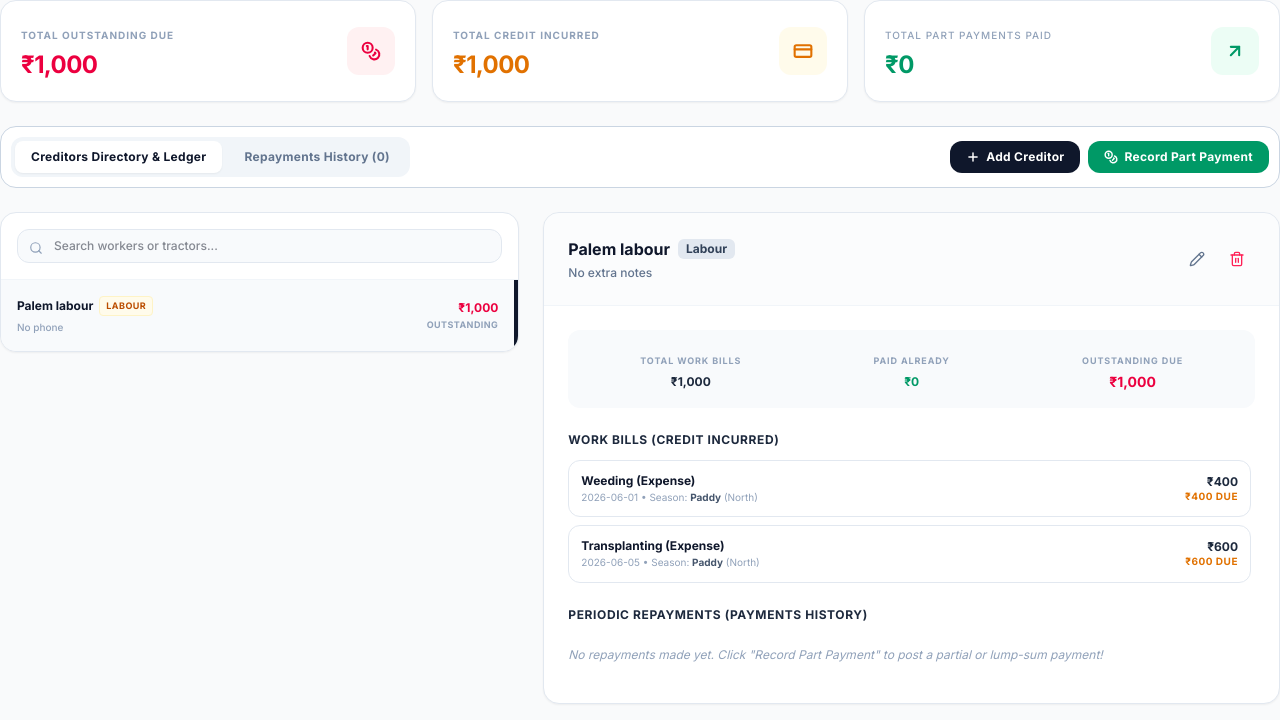
it: Credits tab: choosing which bills a payment settles › warns when the payment is more than the ticked bills owe
Step 1. Click the button "Record Part Payment" → (1179, 157), box [1088,141,1269,173]
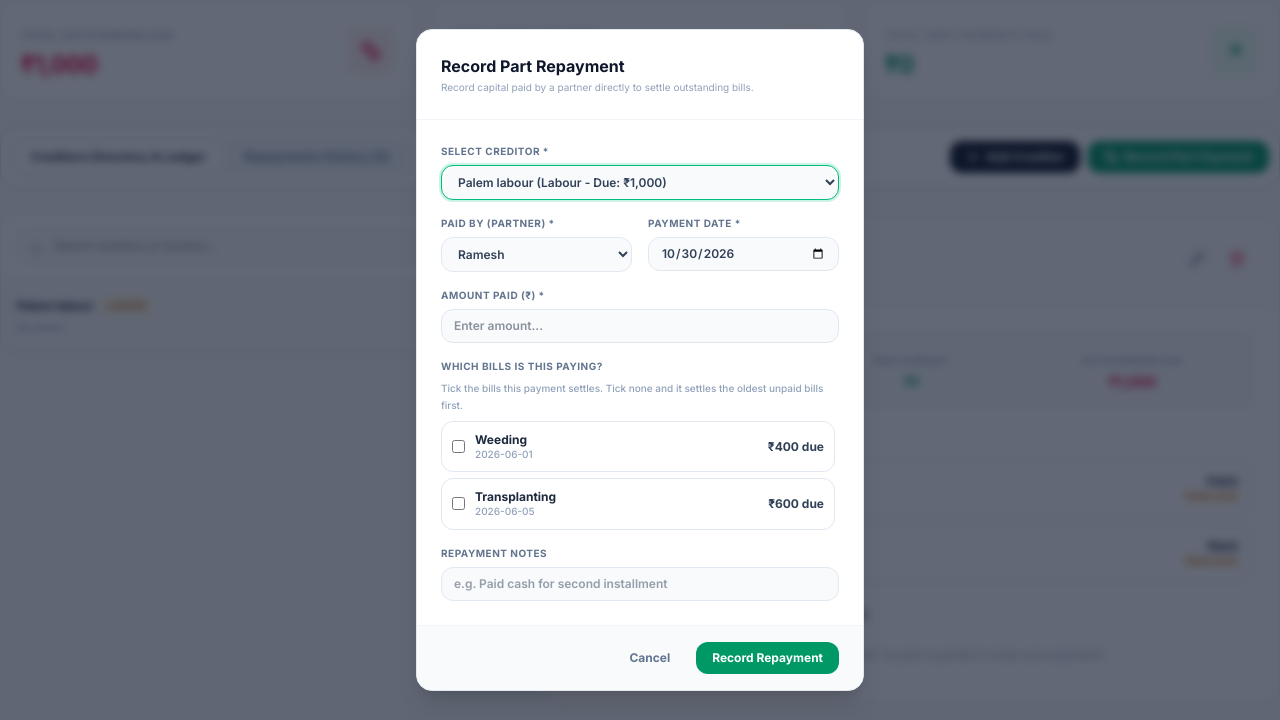
Step 2. Click the checkbox labelled "Weeding 2026-06-01 ₹400 due" → (458, 447), box [452,440,465,453]
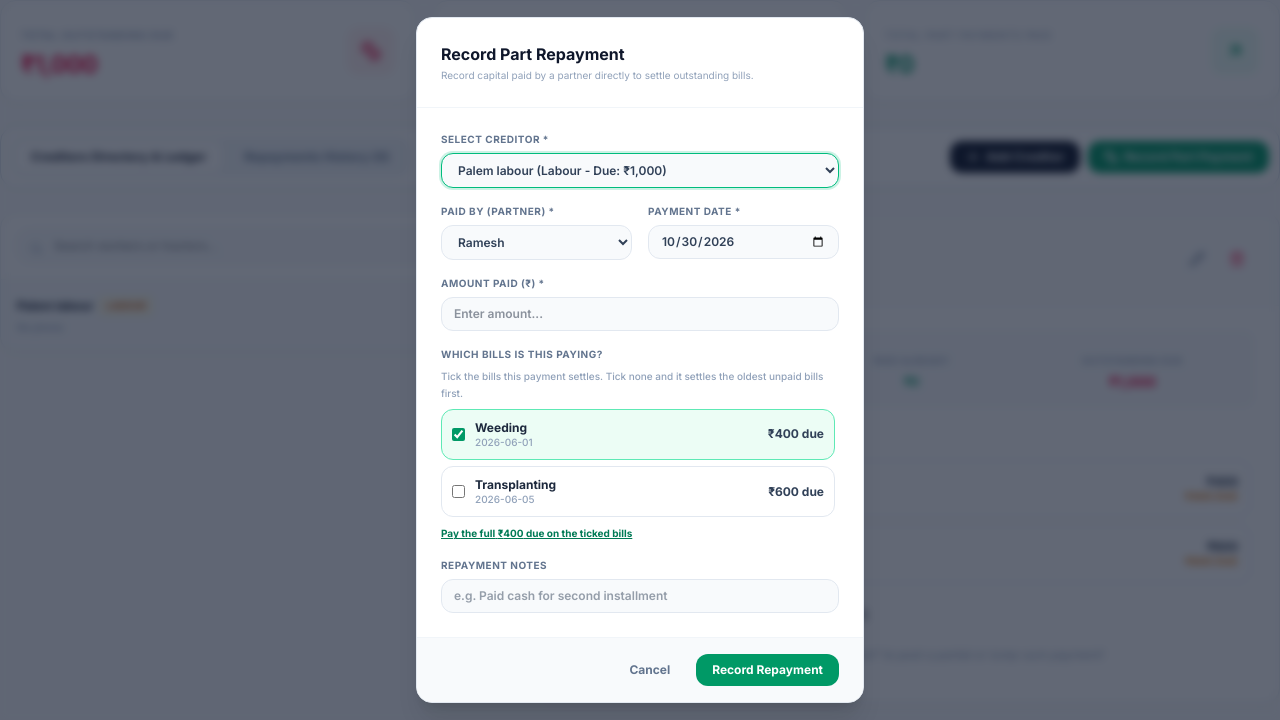
Step 3. Type "1000" into the number field with placeholder "Enter amount..." → (640, 314), box [441,297,839,331]
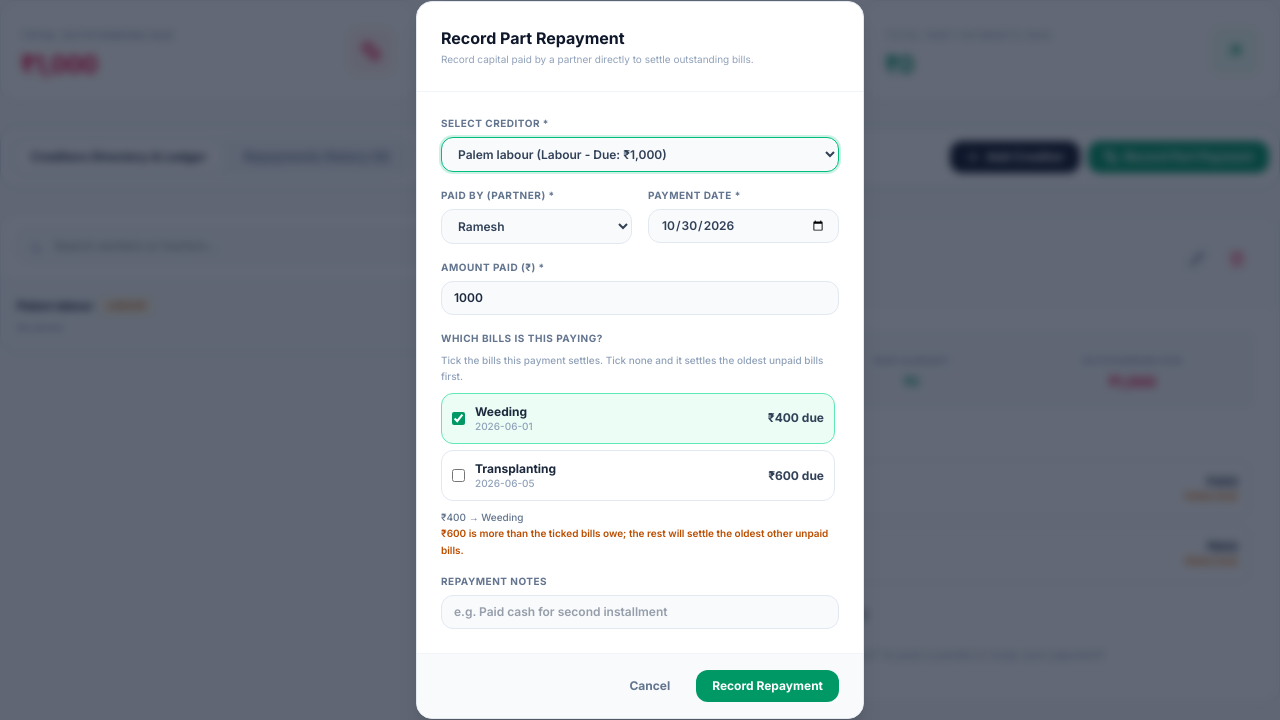
Check: the text "₹600 is more than the ticked bills owe" is shown, box [441,526,839,558]
